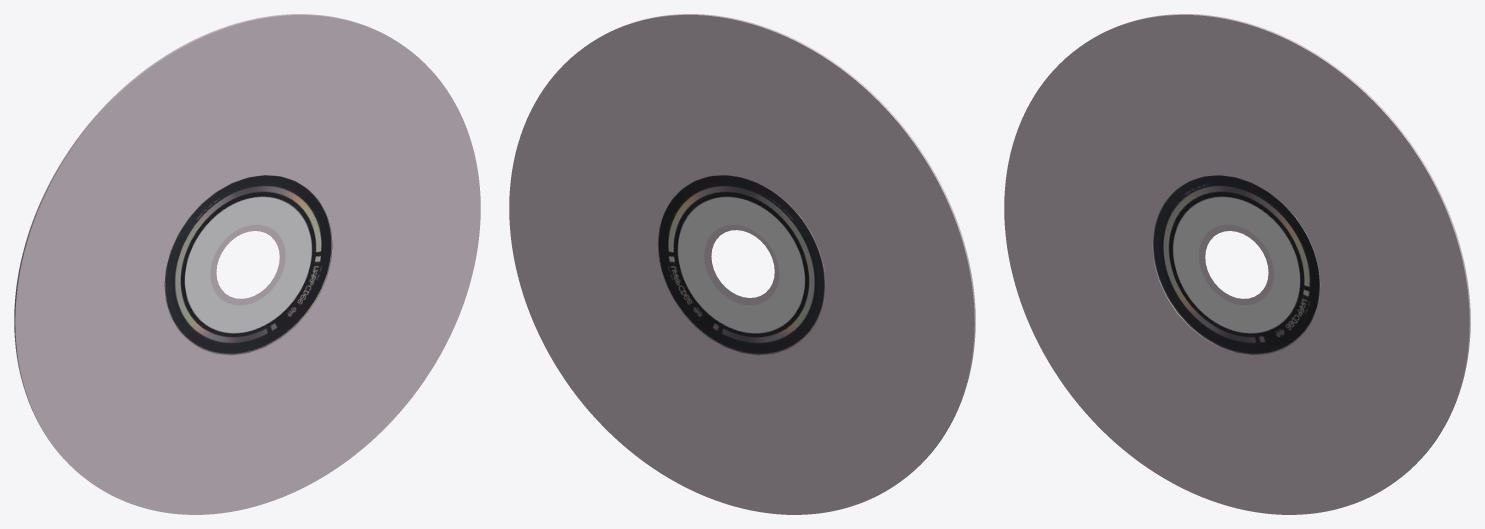
Rendered from laserdisc.gltf.
3 views of the same model, side by side, from view 1: azimuth 30°, elevation 25°; view 2: azimuth 150°, elevation 25°; view 3: azimuth 330°, elevation 25° (orthographic).
Parts seen in each view (by area): view 1: CD_1; view 2: CD_1; view 3: CD_1.
Part boxes in pixels (x1,y1,x2,y2): CD_1: (14, 14, 480, 514); CD_1: (509, 14, 975, 514); CD_1: (1004, 14, 1470, 514).
Bounding box in the file's own units: 1.87 × 1.87 × 0.0238.
Materials: 2 (1 with a texture image).
